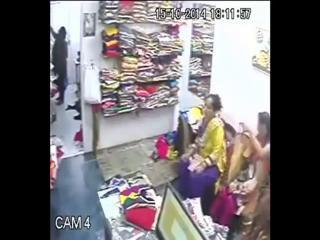Normal: (174, 94, 228, 211)
